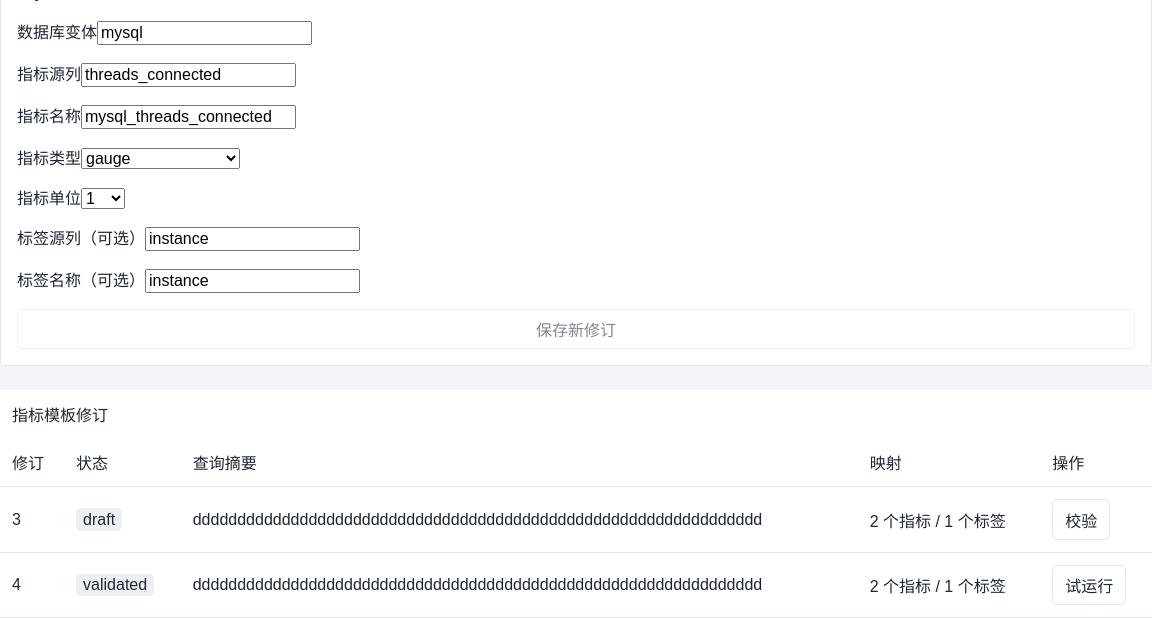
Scenario: Metric template management pages › validates and trials a revision, showing real job progress but no fabricated counts or raw rows
(page scrolled)
Click the button named "校验 revision-draft" at (1081, 520), box [1052, 499, 1110, 540]
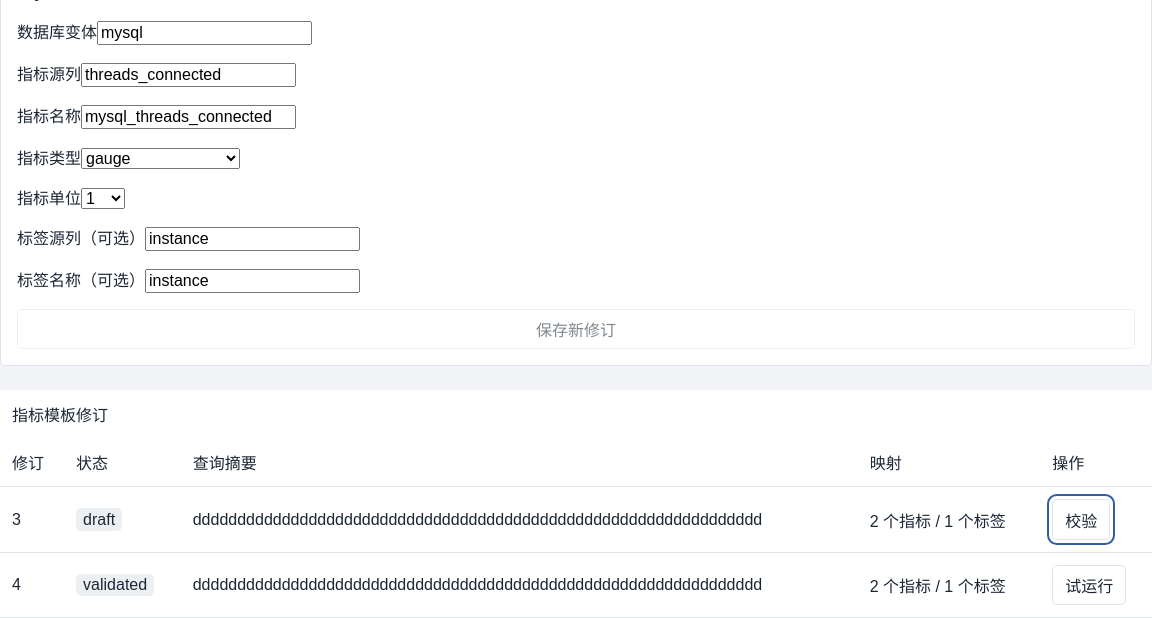
Click the button named "试运行 revision-validated" at (1089, 585), box [1052, 565, 1126, 605]
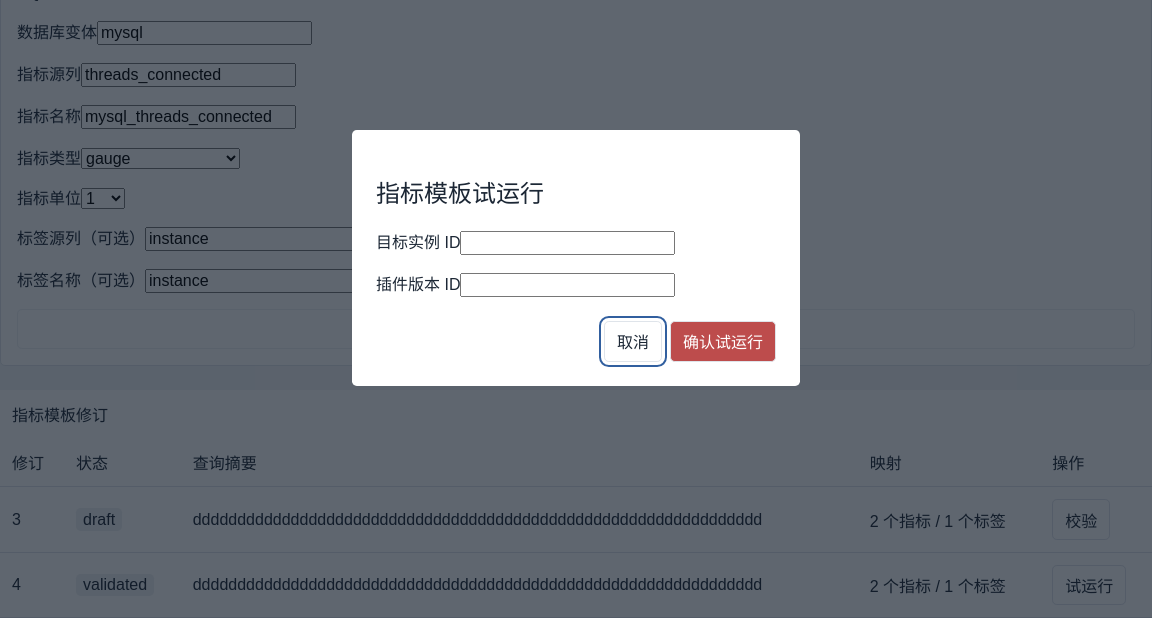
Type "instance-1" into the field labelled "目标实例 ID" at (568, 243), box [460, 231, 676, 255]
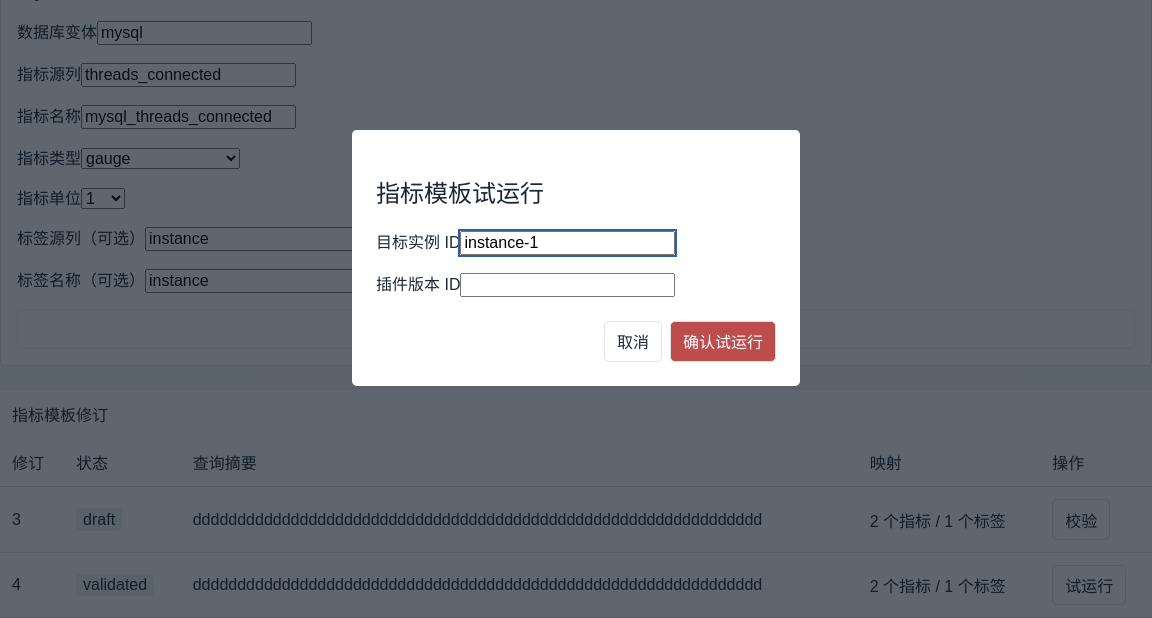
Type "plugin-version-1" into the field labelled "插件版本 ID" at (568, 285), box [460, 273, 676, 297]
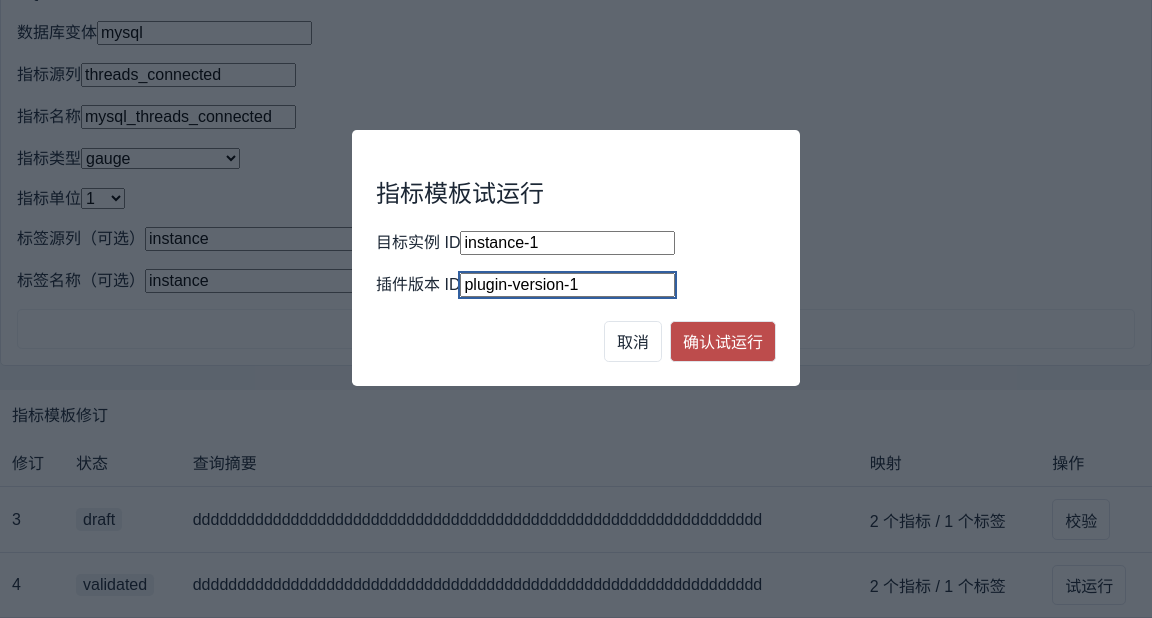
Click the button "确认试运行" at (723, 341), box [670, 321, 776, 362]
(page scrolled)
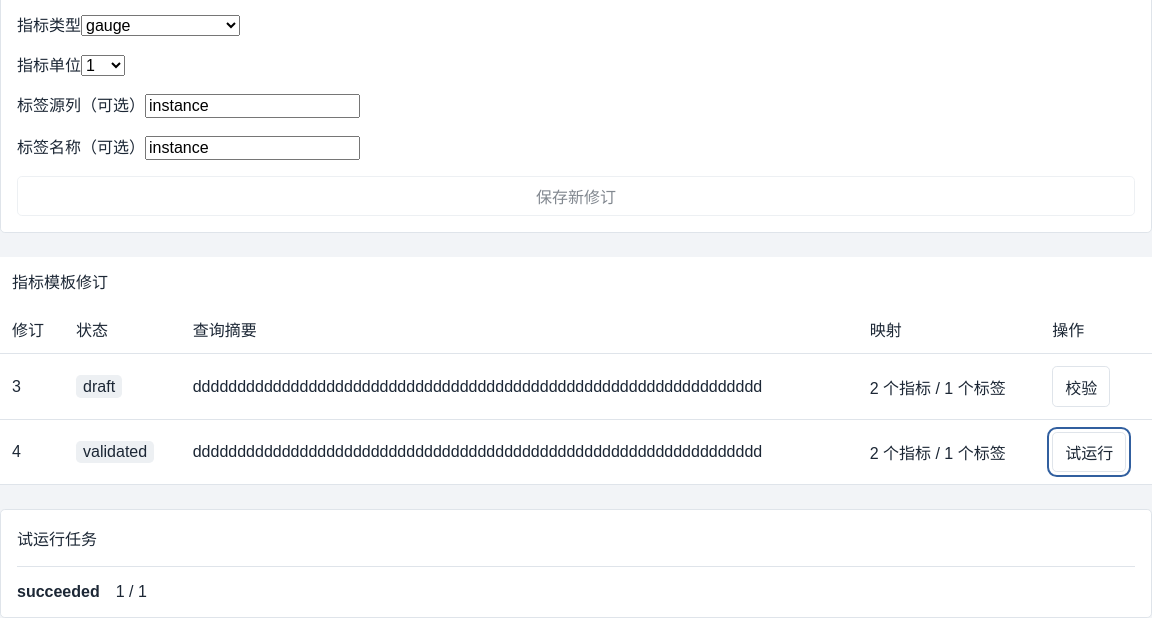
Check: the text "succeeded" is shown, box [17, 583, 100, 601]
